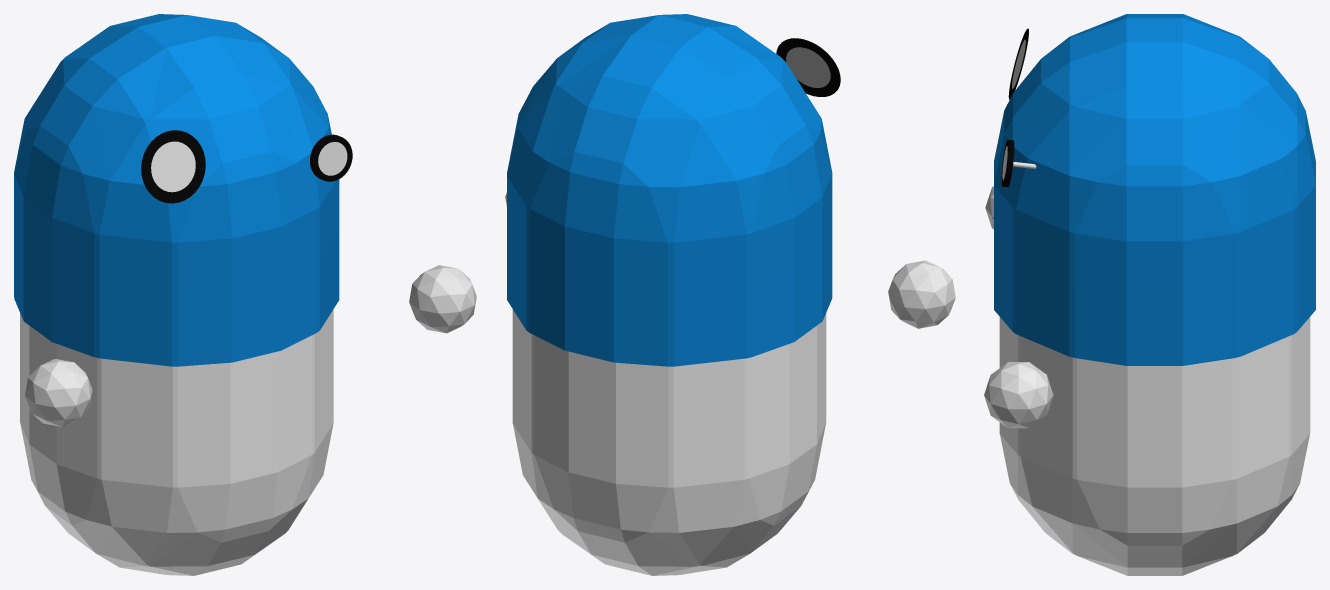
File: Lifepill.fbx
3 renders of one model, left to right at view 1: azimuth 30°, elevation 25°; view 2: azimuth 150°, elevation 25°; view 3: azimuth 270°, elevation 25°, orthographic.
Visible parts, largest first — view 1: Mball.001, Circle, Icosphere, Icosphere.001, Circle.001; view 2: Mball.001, Icosphere.001, Circle; view 3: Mball.001, Icosphere, Circle.001, Circle.
Part boxes in pixels (<box>): Mball.001: <box>14,14,339,575</box>; Circle: <box>141,130,205,203</box>; Icosphere: <box>409,265,476,333</box>; Icosphere.001: <box>25,359,92,426</box>; Circle.001: <box>310,134,352,181</box>; Mball.001: <box>507,14,832,575</box>; Icosphere.001: <box>888,260,955,328</box>; Circle: <box>776,38,840,96</box>; Mball.001: <box>994,14,1315,575</box>; Icosphere: <box>984,362,1053,428</box>; Circle.001: <box>1001,140,1036,187</box>; Circle: <box>1008,28,1028,99</box>.
Size of the model in its own units: 373 by 427 by 242.
